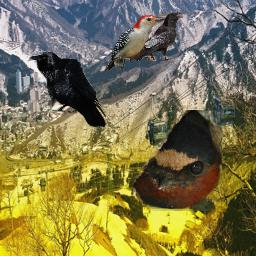Crow: (29, 51, 108, 128), (132, 12, 183, 61)
Swallow: (133, 110, 222, 211)
Woodpecker: (105, 15, 169, 71)
